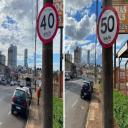speed_limit_40: (36, 2, 59, 44)
speed_limit_50: (96, 4, 120, 48)
